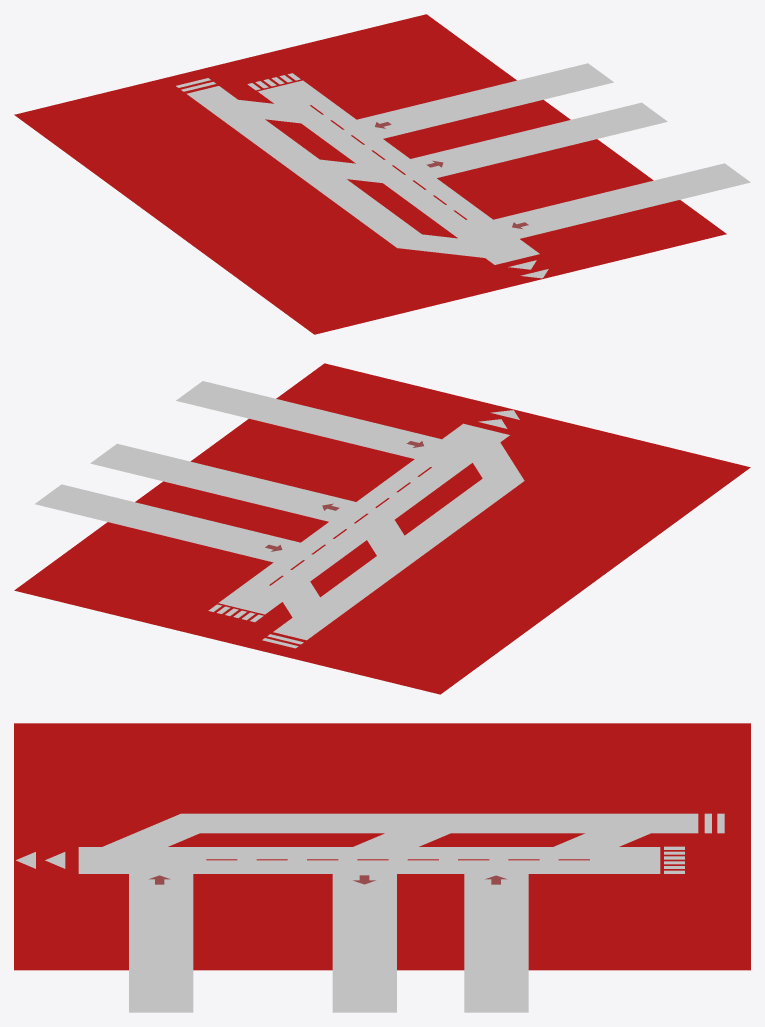
The model's file is floor4.glb.
3 renders of one model, top to bottom at view 1: azimuth 30°, elevation 25°; view 2: azimuth 150°, elevation 25°; view 3: azimuth 270°, elevation 25°, orthographic. The views are drawn at different scales.
Visible parts, largest first — view 1: floor4; view 2: floor4; view 3: floor4.
Part boxes in pixels (<box>): floor4: <box>14,14,750,334</box>; floor4: <box>14,363,750,694</box>; floor4: <box>14,723,750,1012</box>.
Bounding box in the file's own units: 44.64 × 0.1143 × 48.06.
